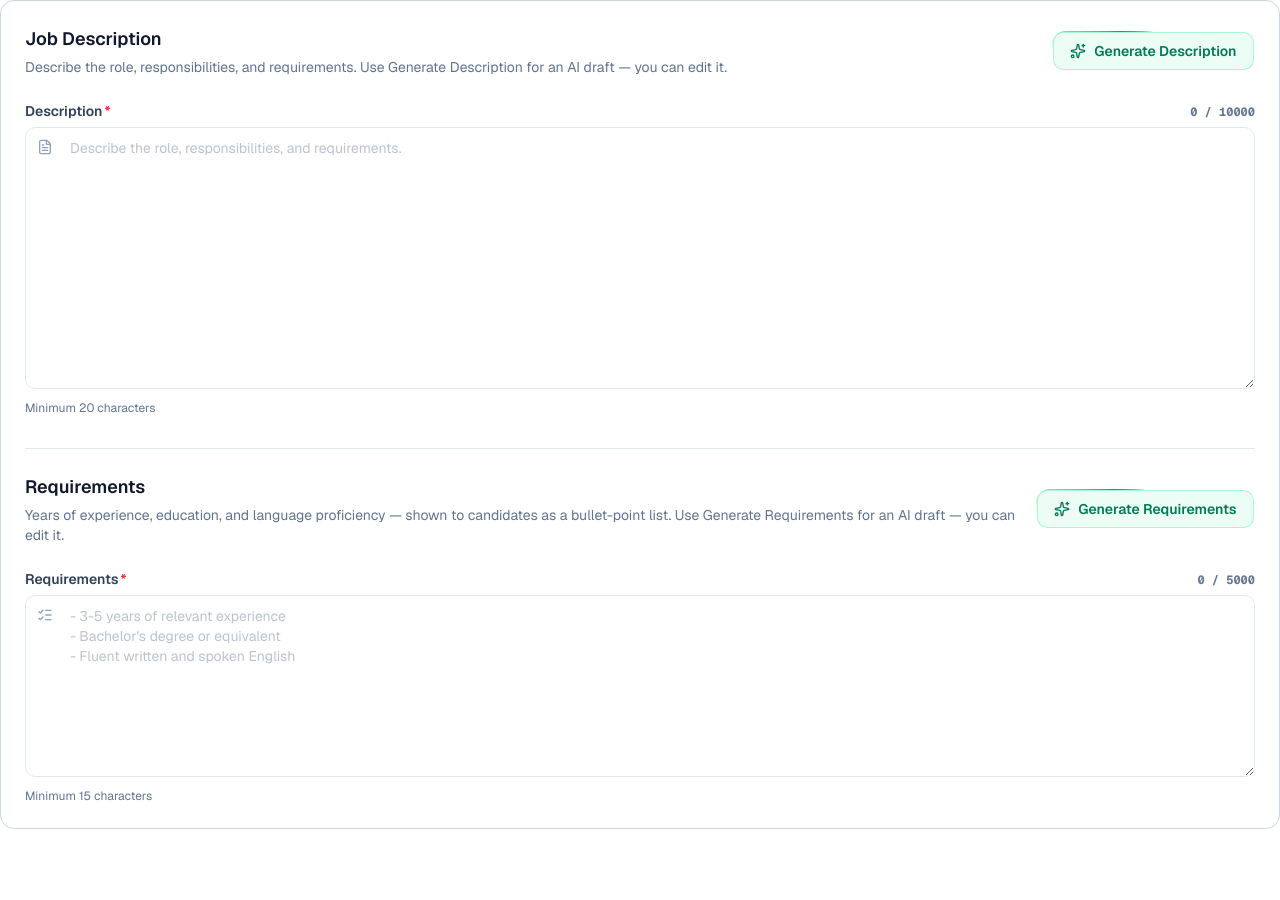
Test: Step5Description › switches the requirements button to Regenerate after generating requirements
The width and height of the screenshot is (1280, 900).
Click the button "Generate Requirements" at (1145, 509), box x1=1036 y1=488 x2=1255 y2=530
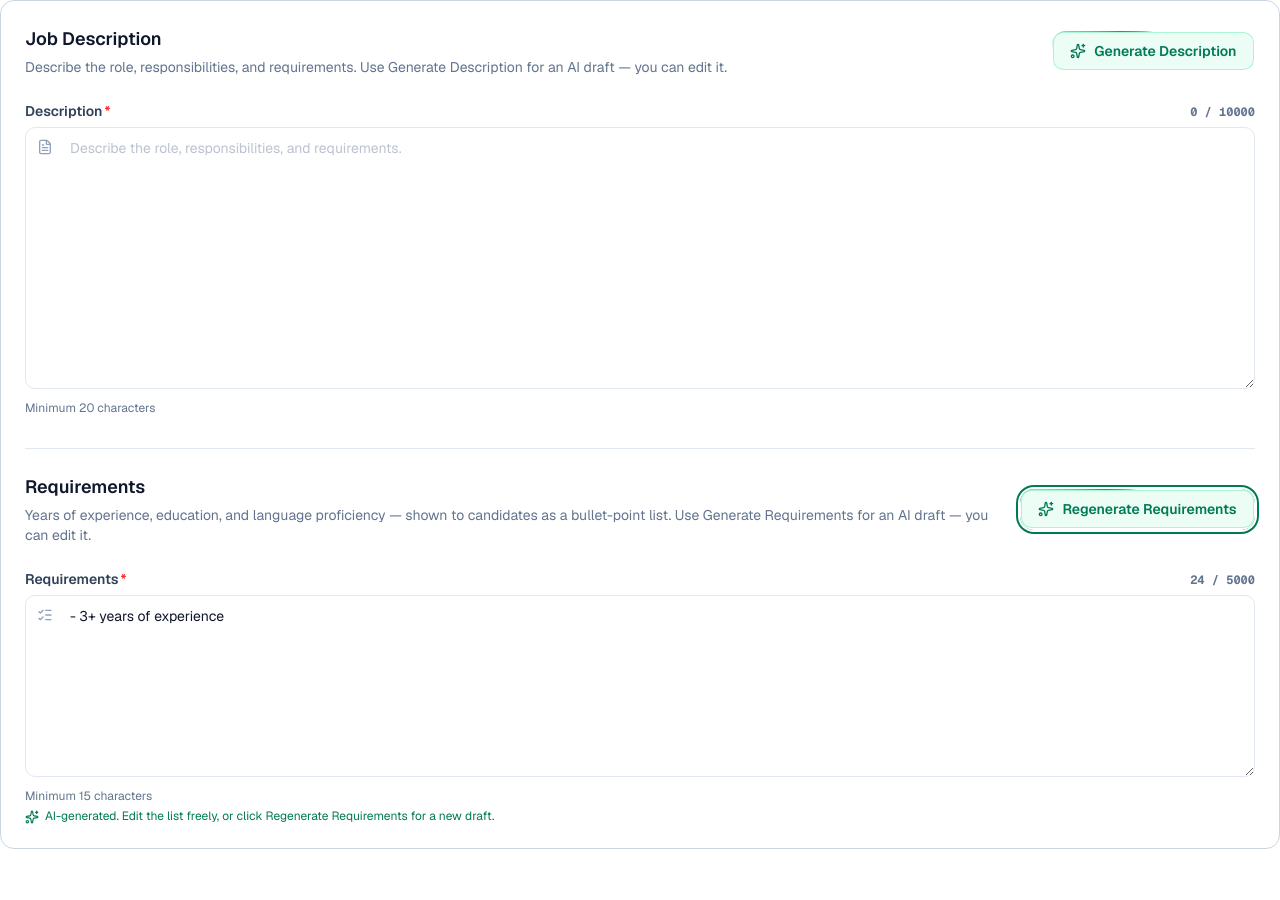
Now the button "Regenerate Requirements" is shown, box x1=1020 y1=488 x2=1255 y2=530
Now the text "AI-generated. Edit the list freely" is shown, box x1=45 y1=808 x2=494 y2=824
